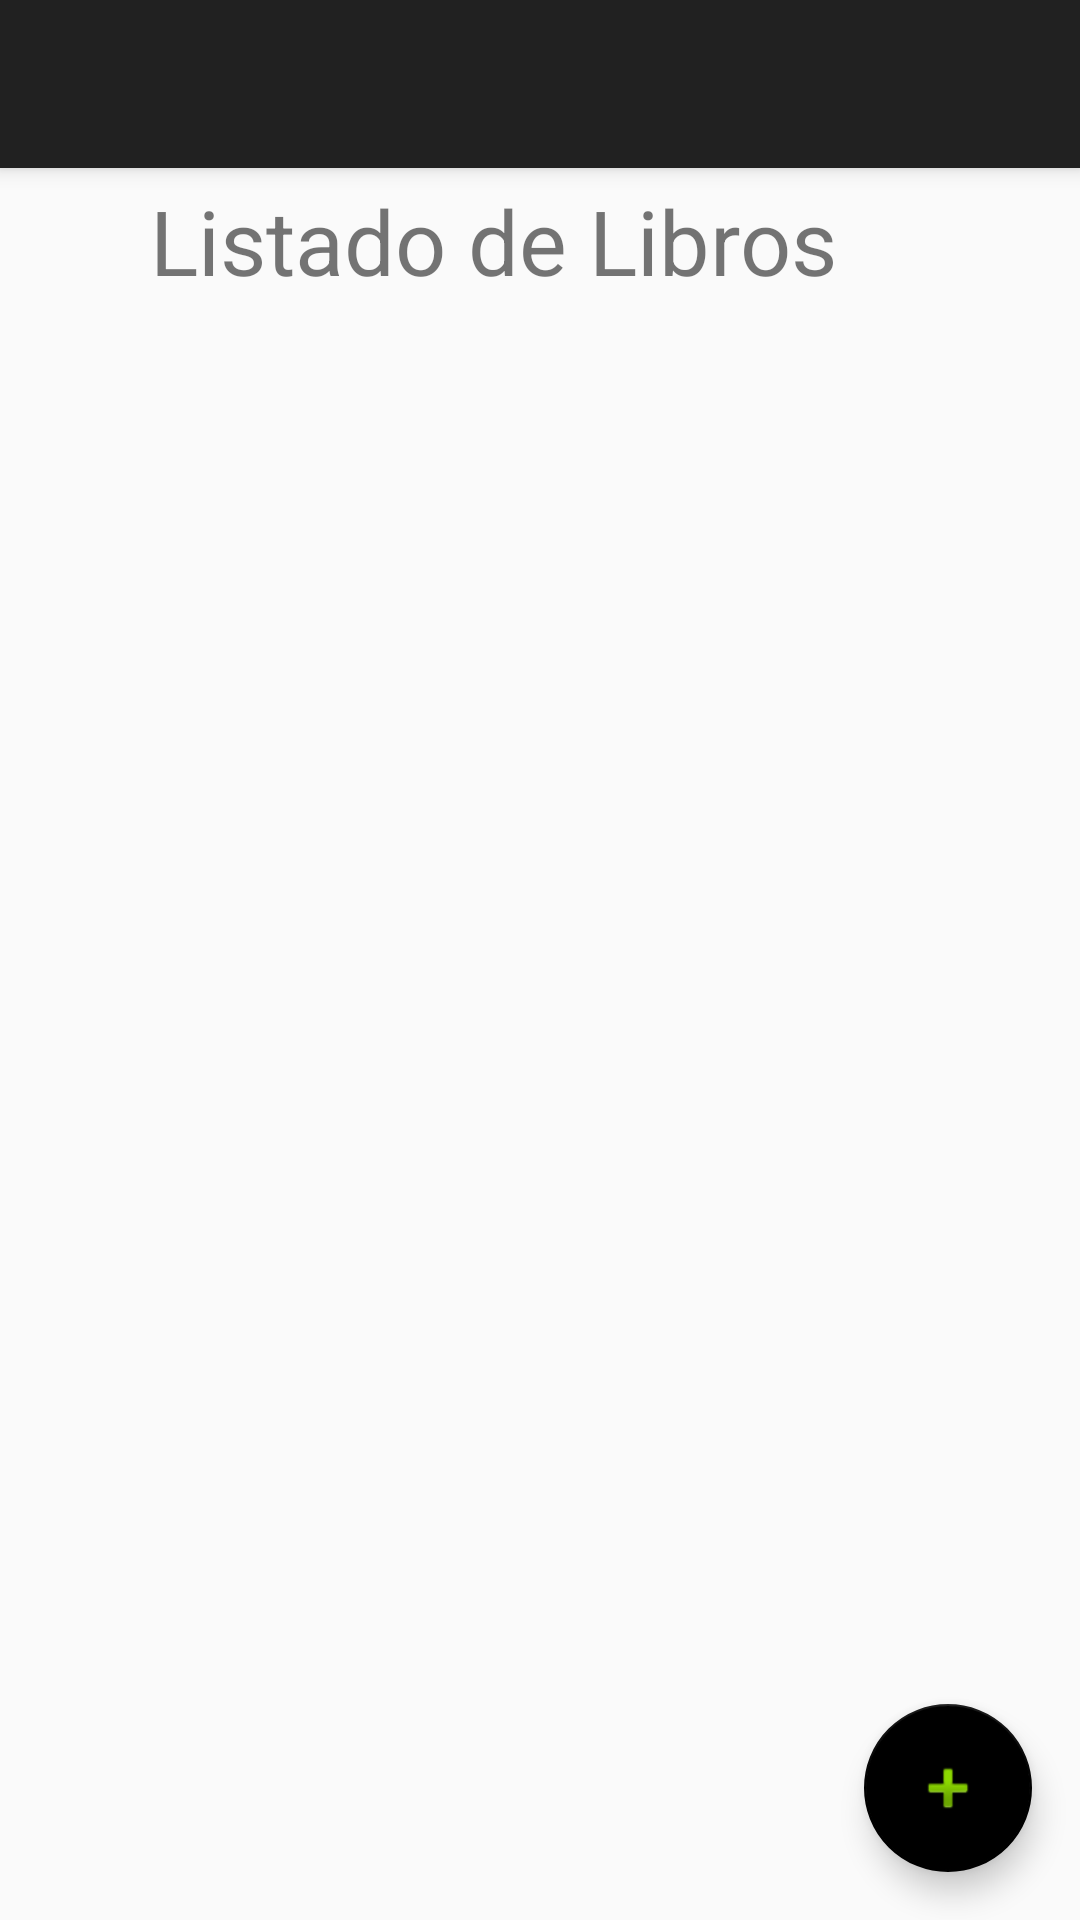

Screen size 1080 × 1920. Icon name, then its box in pixels as (x1, y1, x2, y2):
add: (864, 1704, 1032, 1872)
